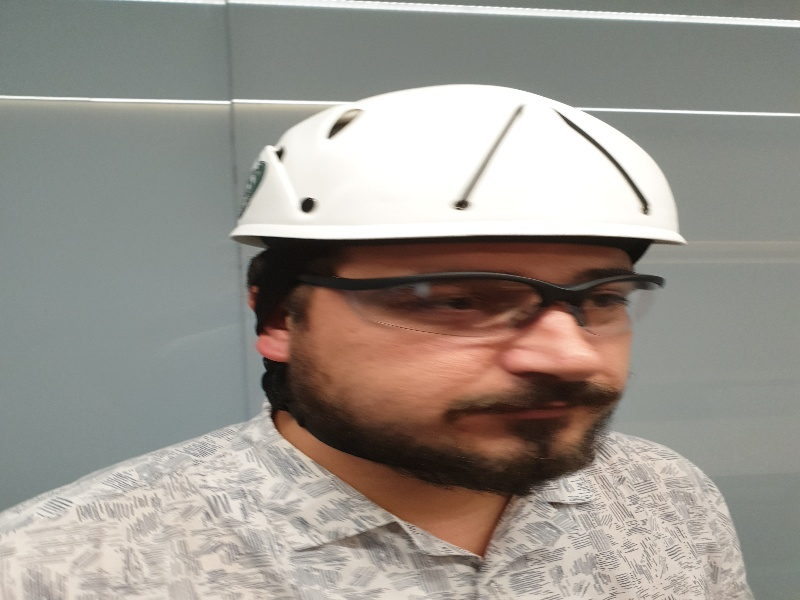Baret: (236, 85, 686, 246)
Gozluk: (290, 271, 665, 345)
